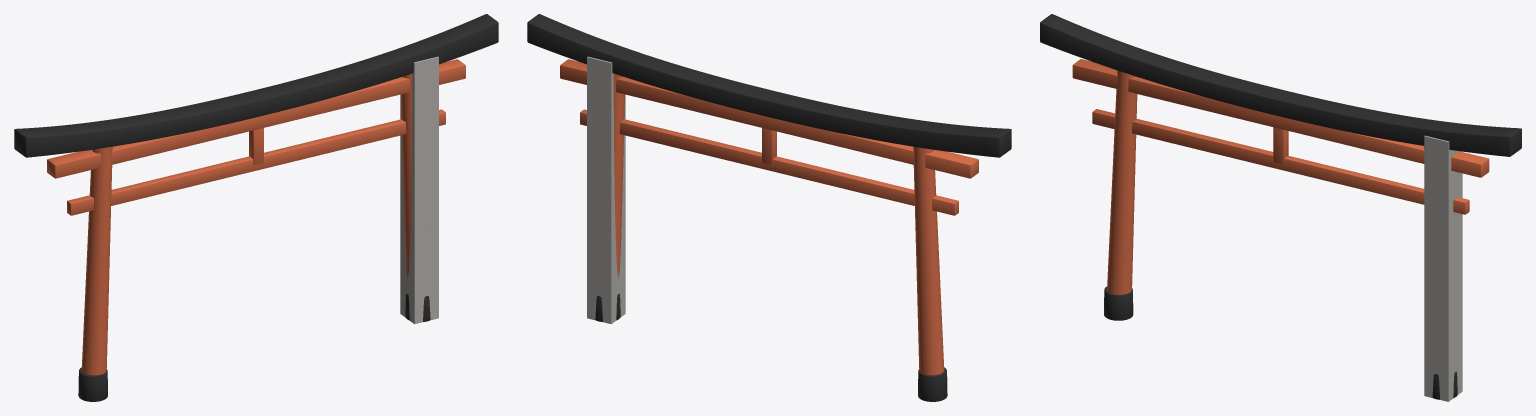
File: torii_small.glb
The picture shows the model from 3 angles, left to right: view 1: azimuth 30°, elevation 25°; view 2: azimuth 150°, elevation 25°; view 3: azimuth 330°, elevation 25°; orthographic projection.
Parts seen in each view (by area): view 1: torii_small, p-colonly.001; view 2: torii_small, p-colonly.001; view 3: torii_small, p-colonly.001.
Part boxes in pixels (box(x1,y1,x2,y2)): torii_small: box(14, 14, 498, 401); p-colonly.001: box(400, 56, 438, 324); torii_small: box(527, 14, 1011, 401); p-colonly.001: box(587, 56, 625, 324); torii_small: box(1040, 14, 1521, 399); p-colonly.001: box(1424, 135, 1462, 401).
Size of what is drawn, in the model's own units: 7.02 by 3.98 by 0.3824.
